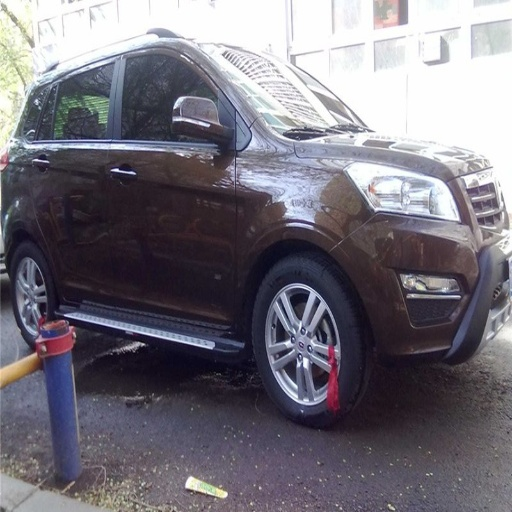front_bumper: (357, 178, 511, 361)
front_right_door: (112, 49, 238, 323)
front_right_light: (349, 165, 463, 223)
